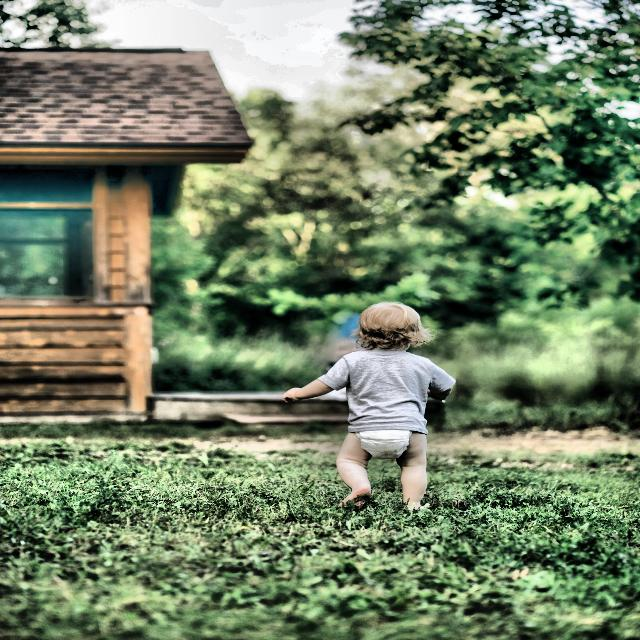Human: (284, 292, 483, 525)
